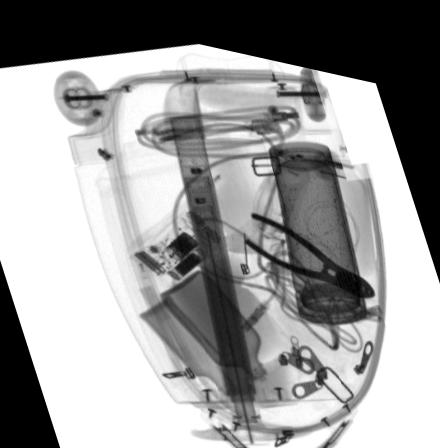Pliers: (242, 199, 376, 281)
